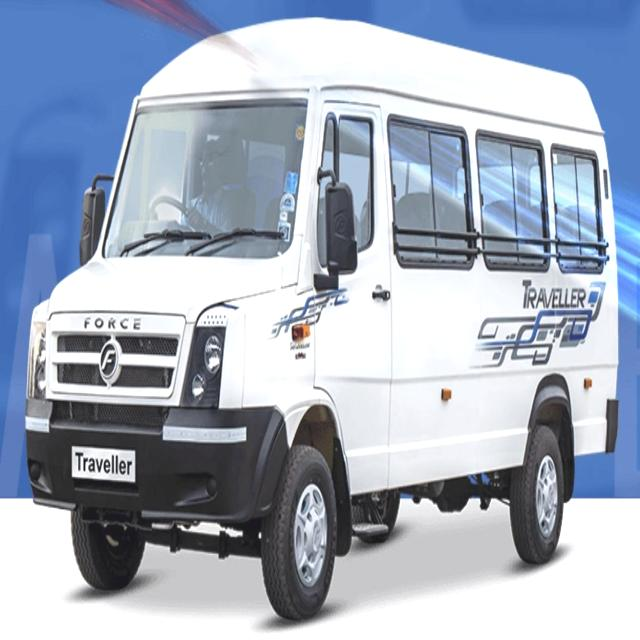Van: (6, 30, 640, 628)
